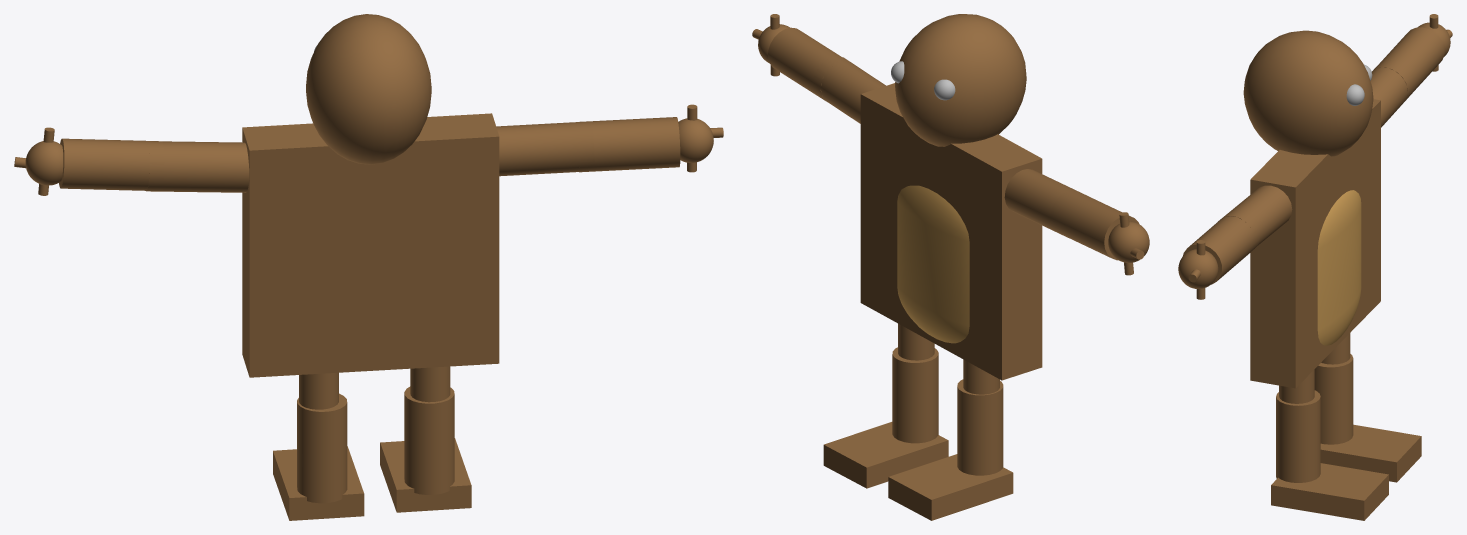
File: Dart Monkey 1.fbx
3 renders of one model, left to right at view 1: azimuth 30°, elevation 25°; view 2: azimuth 150°, elevation 25°; view 3: azimuth 270°, elevation 25°, orthographic. The views are drawn at different scales.
Visible parts, largest first — view 1: Cube__55_, Sphere__3_, Cylinder__18_, Cylinder__11_, Cylinder__9_, Cylinder__23_, Cylinder__19_, Cylinder__24_, Cube__20_, Cube__54_, Sphere__1_, Cylinder__25_ (+2 smaller); view 2: Cube__55_, Sphere__3_, Capsule, Cube__54_, Cube__20_, Cylinder__9_, Cylinder__11_, Cylinder__19_, Cylinder__24_, Cylinder__18_, Cylinder__23_, Sphere__1_ (+3 smaller); view 3: Cube__55_, Sphere__3_, Capsule, Cube__20_, Cube__54_, Cylinder__9_, Cylinder__11_, Cylinder__19_, Cylinder__24_, Cylinder__23_, Cylinder__18_, Sphere (+3 smaller).
Boxes of the visible parts, x1=… form: Cube__55_: x1=242, y1=113, x2=499, y2=377; Sphere__3_: x1=306, y1=14, x2=431, y2=164; Cylinder__18_: x1=146, y1=141, x2=249, y2=192; Cylinder__11_: x1=297, y1=393, x2=347, y2=503; Cylinder__9_: x1=404, y1=386, x2=454, y2=494; Cylinder__23_: x1=496, y1=121, x2=594, y2=176; Cylinder__19_: x1=59, y1=138, x2=164, y2=190; Cylinder__24_: x1=577, y1=117, x2=680, y2=172; Cube__20_: x1=380, y1=438, x2=471, y2=512; Cube__54_: x1=273, y1=446, x2=364, y2=520; Sphere__1_: x1=25, y1=141, x2=63, y2=185; Cylinder__25_: x1=299, y1=372, x2=338, y2=409; Cube__55_: x1=860, y1=83, x2=1042, y2=380; Sphere__3_: x1=895, y1=14, x2=1026, y2=146; Capsule: x1=897, y1=185, x2=969, y2=343; Cube__54_: x1=888, y1=454, x2=1013, y2=520; Cube__20_: x1=823, y1=422, x2=948, y2=488; Cylinder__9_: x1=892, y1=347, x2=938, y2=443; Cylinder__11_: x1=957, y1=379, x2=1003, y2=475; Cylinder__19_: x1=1050, y1=190, x2=1139, y2=260; Cylinder__24_: x1=768, y1=27, x2=843, y2=101; Cylinder__18_: x1=1004, y1=169, x2=1086, y2=235; Cylinder__23_: x1=814, y1=56, x2=885, y2=123; Sphere__1_: x1=1108, y1=221, x2=1149, y2=262; Cube__55_: x1=1250, y1=99, x2=1380, y2=388; Sphere__3_: x1=1243, y1=30, x2=1373, y2=156; Capsule: x1=1317, y1=190, x2=1361, y2=345; Cube__20_: x1=1271, y1=463, x2=1388, y2=520; Cube__54_: x1=1320, y1=424, x2=1421, y2=482; Cylinder__9_: x1=1276, y1=390, x2=1320, y2=482; Cylinder__11_: x1=1314, y1=354, x2=1353, y2=444; Cylinder__19_: x1=1373, y1=27, x2=1444, y2=100; Cylinder__24_: x1=1182, y1=211, x2=1259, y2=284; Cylinder__23_: x1=1218, y1=185, x2=1292, y2=246; Cylinder__18_: x1=1370, y1=62, x2=1411, y2=127; Sphere: x1=1178, y1=249, x2=1218, y2=288.
Bounding box in the file's own units: 129817 × 107610 × 61523.
